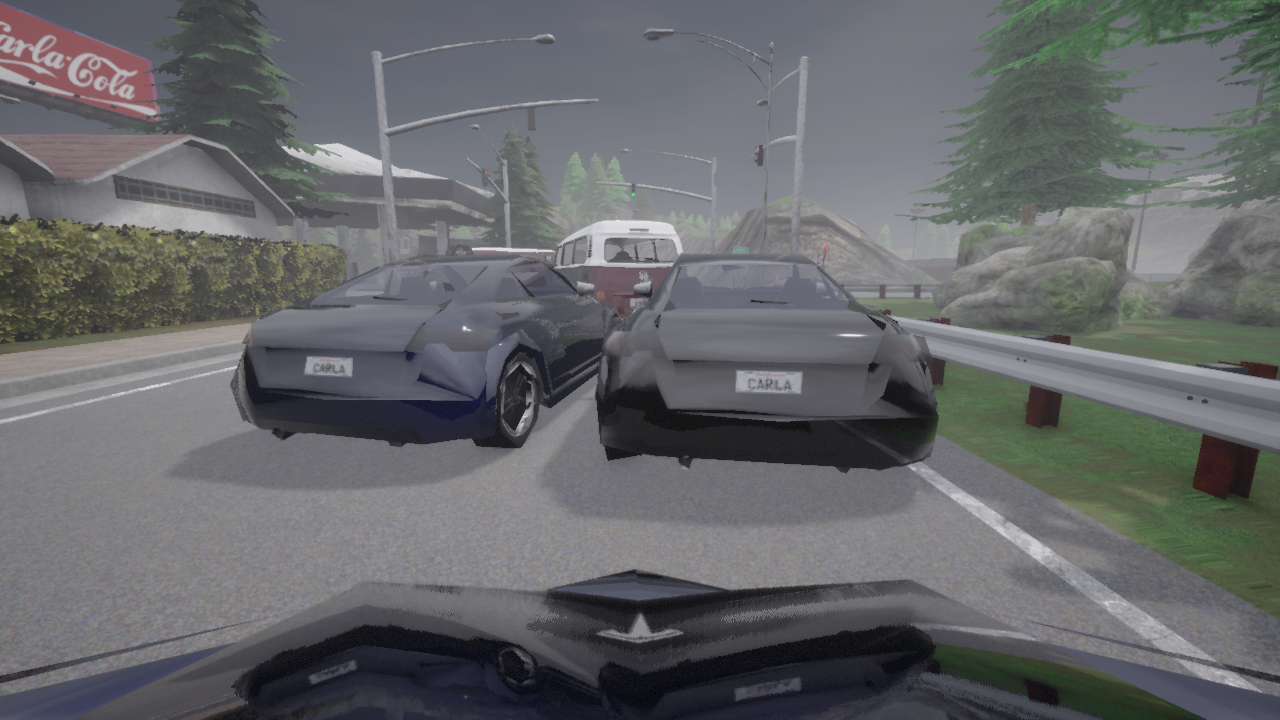cyclist: (0, 569, 1279, 719), (595, 253, 938, 473), (230, 255, 620, 448), (545, 220, 683, 320), (445, 244, 555, 262), (471, 247, 553, 252), (352, 271, 368, 278)
